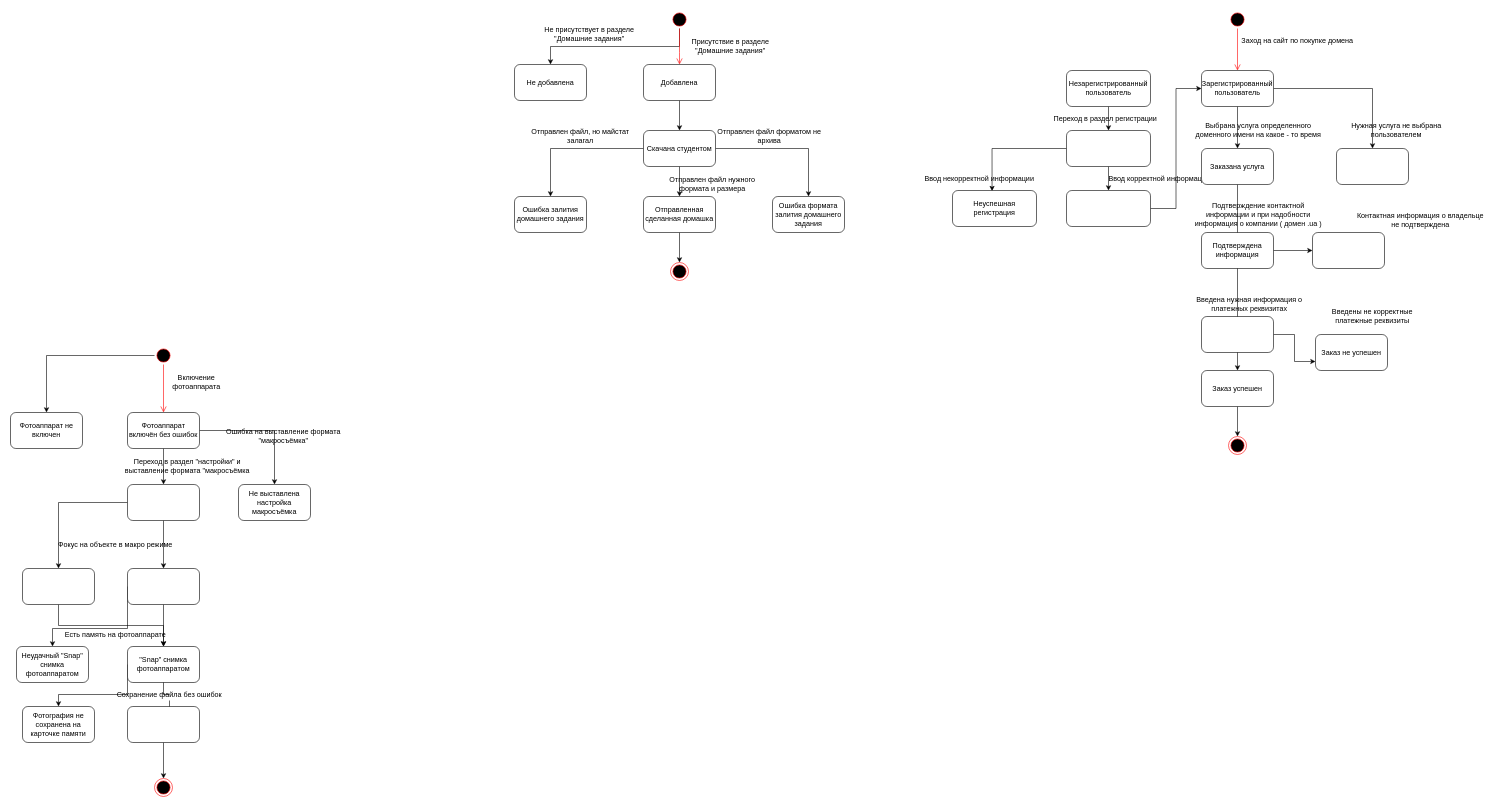
The diagram is 1497 pixels wide and 807 high, and some of its shapes have lost their labels. Each missing label, with the centre of its shape:
Выставлена настройка "Макросъёмка": (x=163, y=502)
Не подтверждена информация: (x=1348, y=250)
Подтверждены платежные реквизиты: (x=1237, y=334)
Пойман фокус на макро объекте: (x=163, y=586)
Регистрация: (x=1108, y=148)
Услуга не выбрана: (x=1372, y=166)
Успешная регистрация: (x=1108, y=208)
Фокуса на объекте нет: (x=58, y=586)
Фотография сохранена на карточку памяти: (x=163, y=724)
